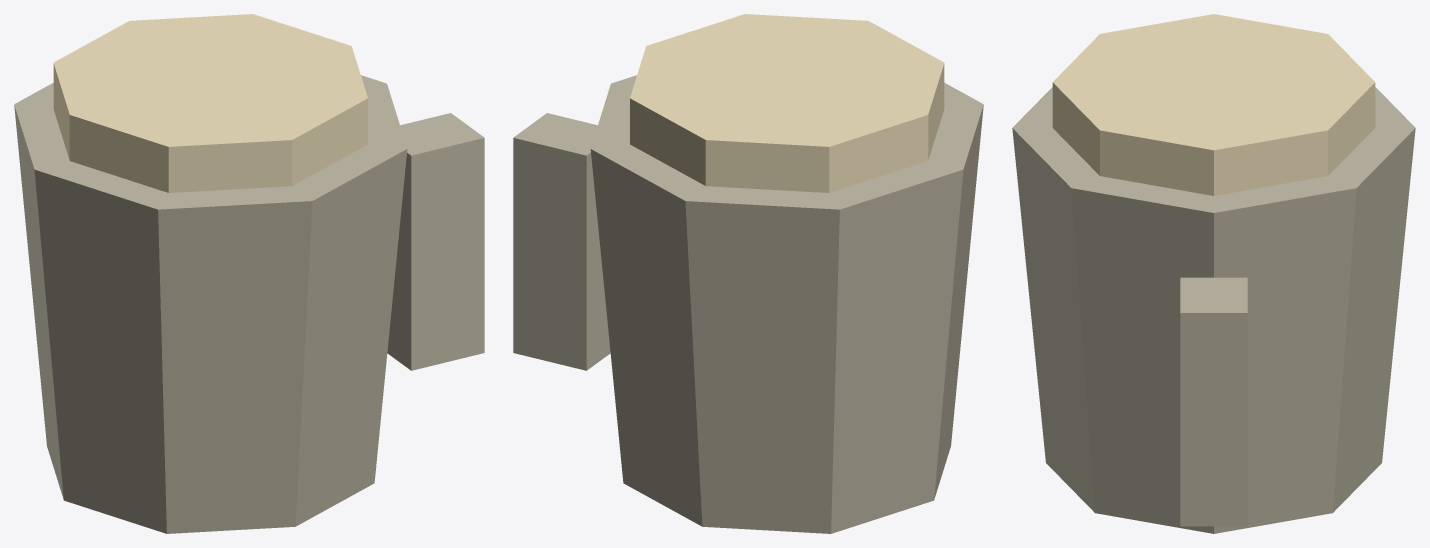
File: mug_2.glb
3 renders of one model, left to right at view 1: azimuth 30°, elevation 25°; view 2: azimuth 150°, elevation 25°; view 3: azimuth 270°, elevation 25°, orthographic.
Parts seen in each view (by area): view 1: mug_2; view 2: mug_2; view 3: mug_2.
Part boxes in pixels (<box>): mug_2: <box>14,14,484,533</box>; mug_2: <box>513,14,983,533</box>; mug_2: <box>1012,14,1415,533</box>.
Size of the model in its own units: 0.1475 by 0.125 by 0.12.
